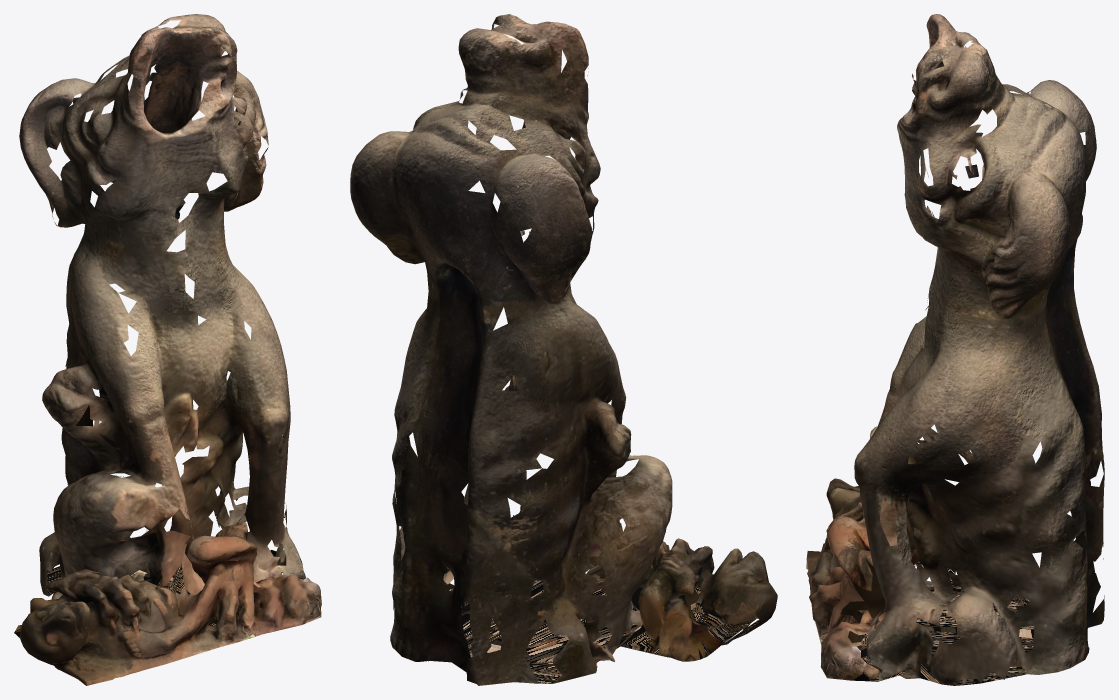
Rendered from 4_fantasy_dog.glb.
The picture shows the model from 3 angles, left to right: view 1: azimuth 30°, elevation 25°; view 2: azimuth 150°, elevation 25°; view 3: azimuth 270°, elevation 25°; orthographic projection. The views are drawn at different scales.
Visible parts, largest first — view 1: Mesh_0; view 2: Mesh_0; view 3: Mesh_0.
Part boxes in pixels (left/top/right/bottom): Mesh_0: left=14, top=14, right=321, bottom=685; Mesh_0: left=350, top=14, right=777, bottom=685; Mesh_0: left=806, top=14, right=1104, bottom=685.
Size of the model in its own units: 1.14 by 2 by 0.894.
12 materials, 12 textured.
